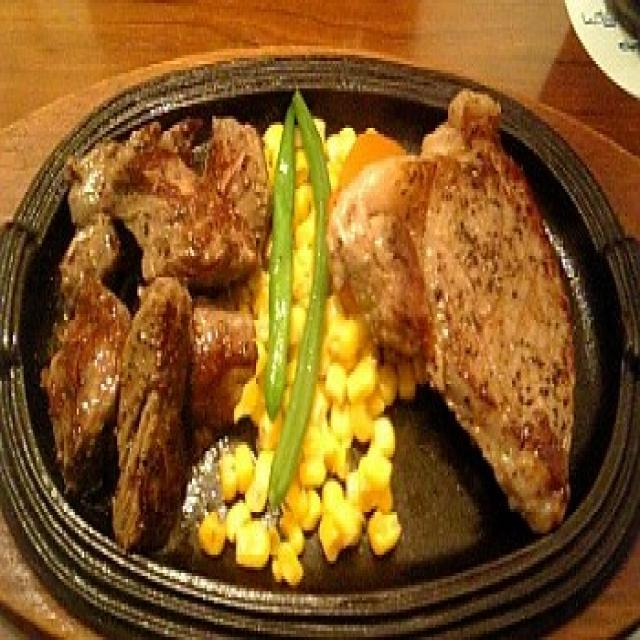牛肉菜式: (334, 98, 588, 540)
